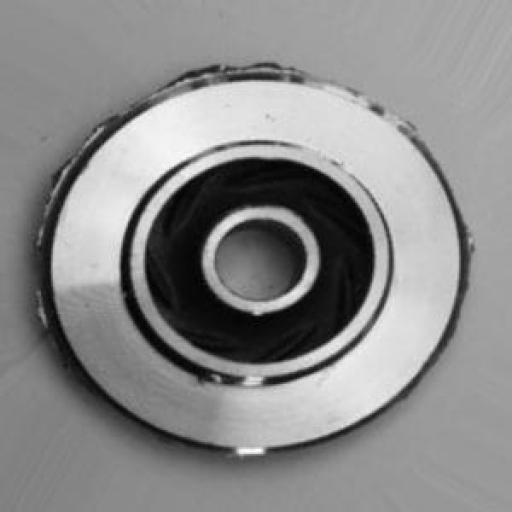defect: (28, 22, 478, 495)
